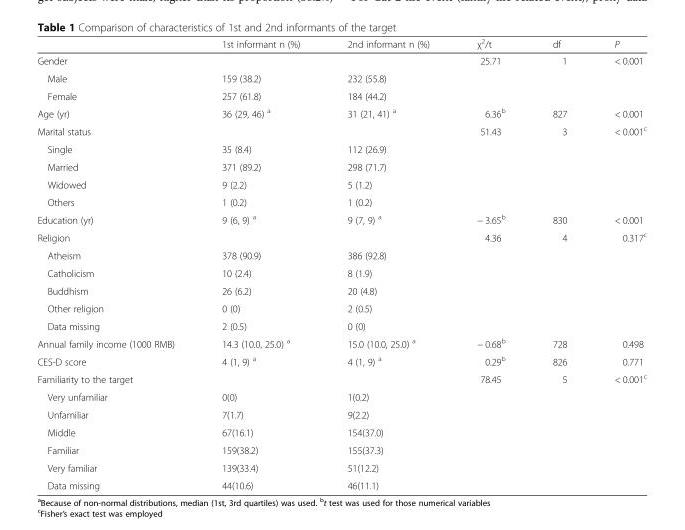table: (36, 36, 646, 490)
table column: (36, 36, 197, 490), (323, 36, 452, 490), (197, 36, 323, 490), (452, 36, 528, 490), (528, 36, 590, 490), (590, 36, 646, 490)
table column header: (36, 36, 646, 52)
table row: (36, 121, 646, 140), (36, 227, 646, 246), (36, 103, 646, 121), (36, 157, 646, 175), (36, 175, 646, 193), (36, 263, 646, 281), (36, 281, 646, 299), (36, 299, 646, 317), (36, 351, 646, 369), (36, 369, 646, 387), (36, 387, 646, 405), (36, 405, 646, 423), (36, 440, 646, 458), (36, 458, 646, 476), (36, 52, 646, 69), (36, 69, 646, 86), (36, 86, 646, 103), (36, 140, 646, 157), (36, 193, 646, 210), (36, 210, 646, 227), (36, 246, 646, 263), (36, 317, 646, 334), (36, 334, 646, 351), (36, 423, 646, 440), (36, 36, 646, 52), (36, 476, 646, 490)
